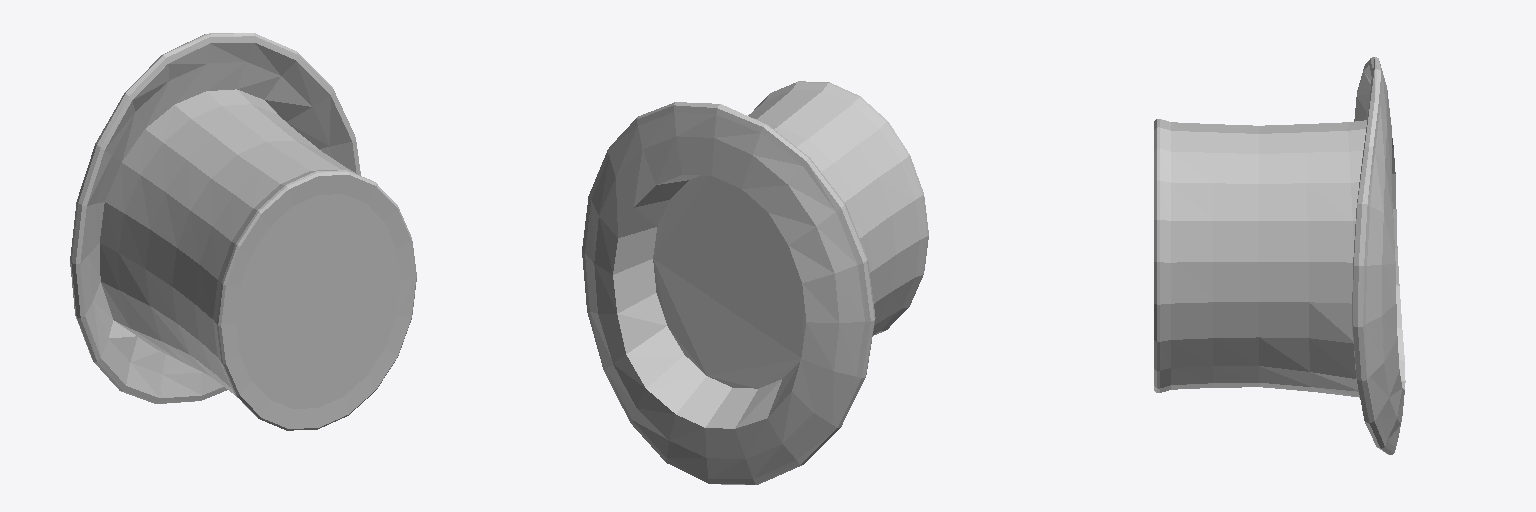
Rendered from USAHat.obj.
3 renders of one model, left to right at view 1: azimuth 30°, elevation 25°; view 2: azimuth 150°, elevation 25°; view 3: azimuth 270°, elevation 25°, orthographic.
Visible parts, largest first — view 1: HatLincoln:0; view 2: HatLincoln:0; view 3: HatLincoln:0.
Part boxes in pixels (bbox=[...]): HatLincoln:0: bbox=[70, 33, 416, 430]; HatLincoln:0: bbox=[582, 81, 928, 484]; HatLincoln:0: bbox=[1154, 57, 1405, 454].
Bounding box in the file's own units: 18.24 × 22.36 × 13.62.